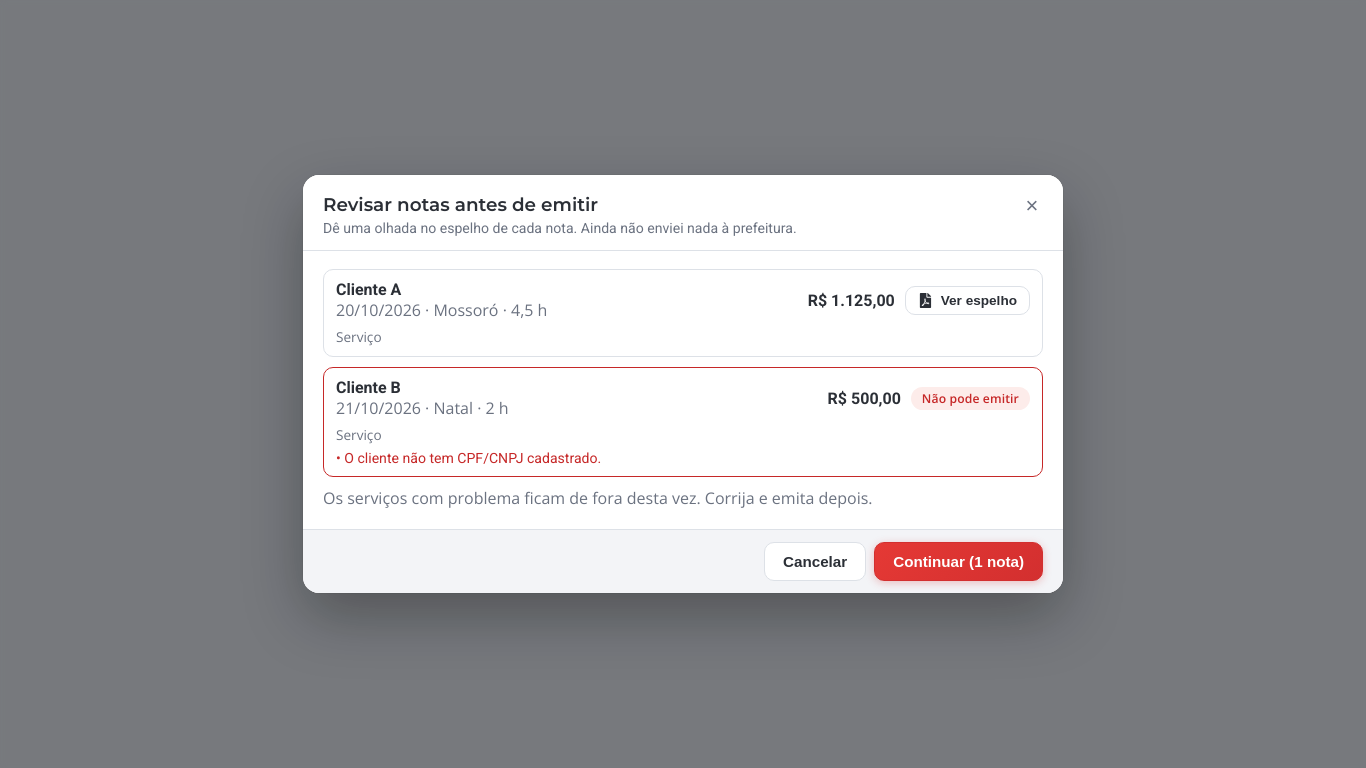
Test case: emissão de notas do munck › avisa que a emissão em produção vale fiscalmente
The image size is (1366, 768).
Expected: the text "Cliente A" is shown, 336,280 -> 401,299
Click the button "Continuar (1 nota)" at [959, 562], box 874,542 -> 1043,581
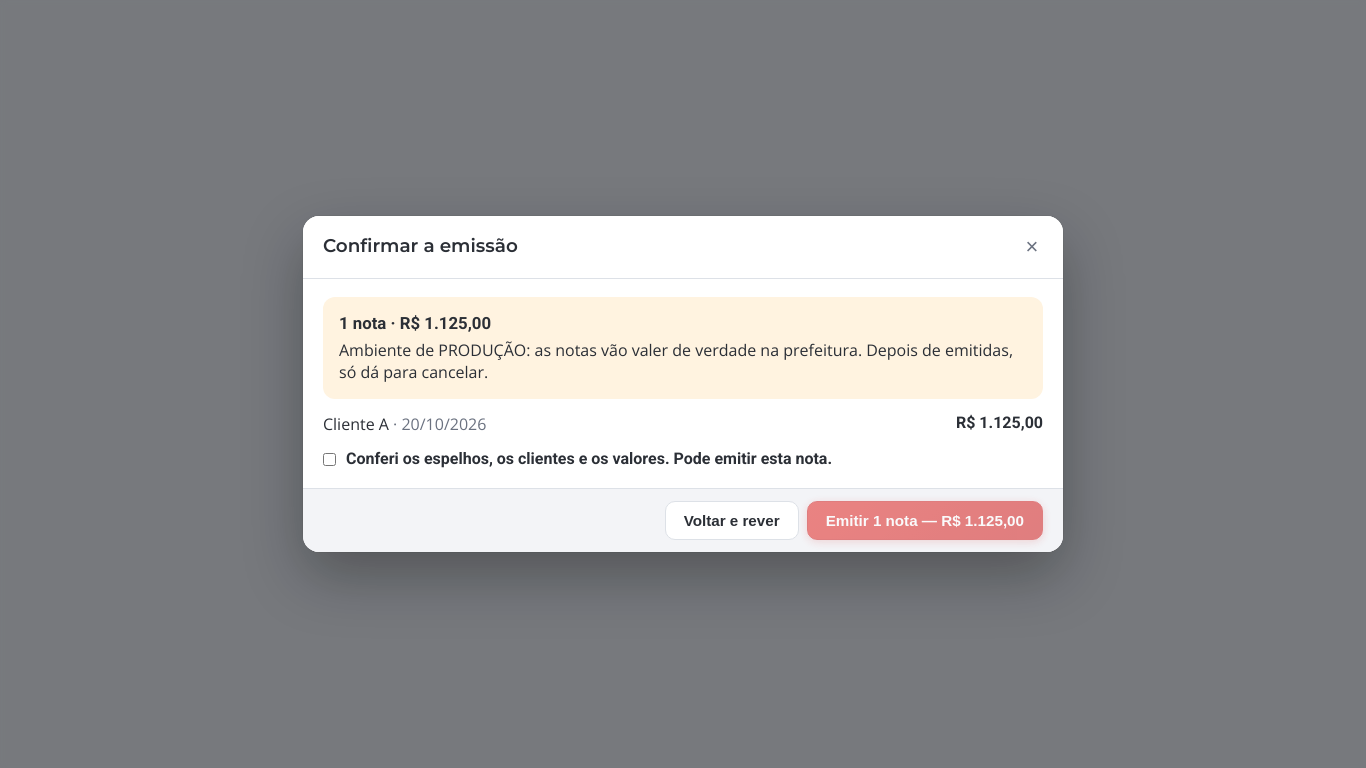
Expected: the text "PRODUÇÃO" is shown, 339,339 -> 1013,383
